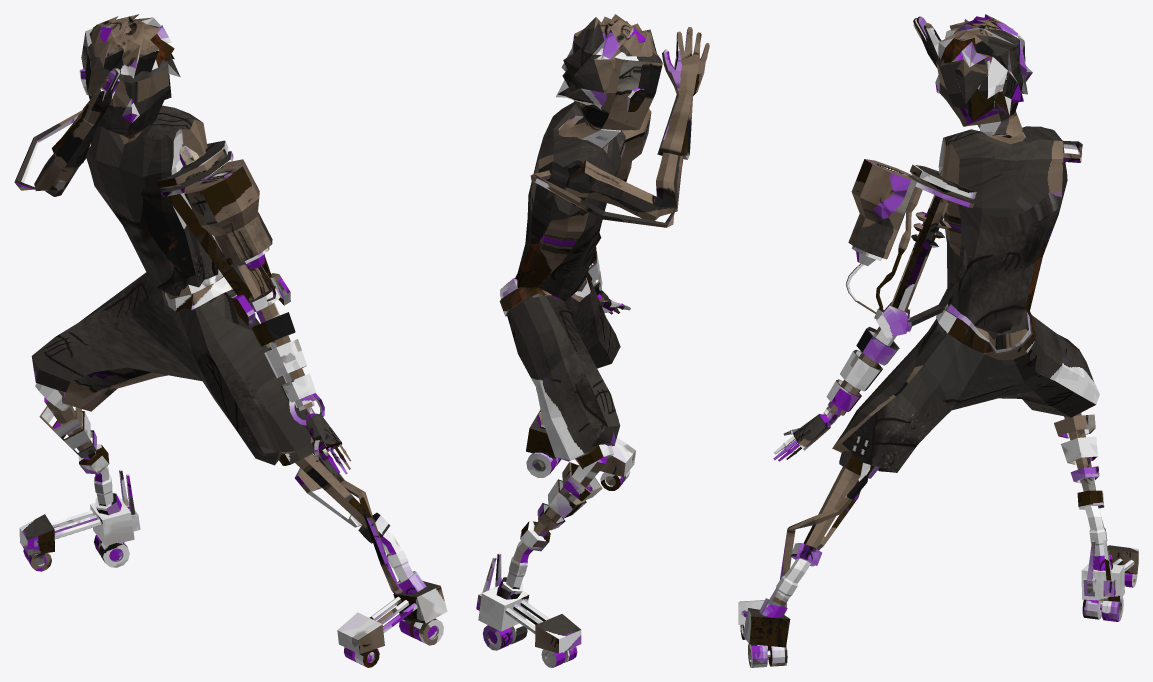
File: CyborgFINALAnimation_000058.obj
The picture shows the model from 3 angles, left to right: view 1: azimuth 30°, elevation 25°; view 2: azimuth 150°, elevation 25°; view 3: azimuth 270°, elevation 25°; orthographic projection. The views are drawn at different scales.
Visible parts, largest first — view 1: CyborgMesh_Cube.002; view 2: CyborgMesh_Cube.002; view 3: CyborgMesh_Cube.002.
Boxes of the visible parts, left/top/right/bottom form: CyborgMesh_Cube.002: left=14, top=14, right=447, bottom=667; CyborgMesh_Cube.002: left=476, top=14, right=709, bottom=667; CyborgMesh_Cube.002: left=738, top=14, right=1138, bottom=667.
Size of the model in its own units: 4.24 by 8.64 by 5.44.
